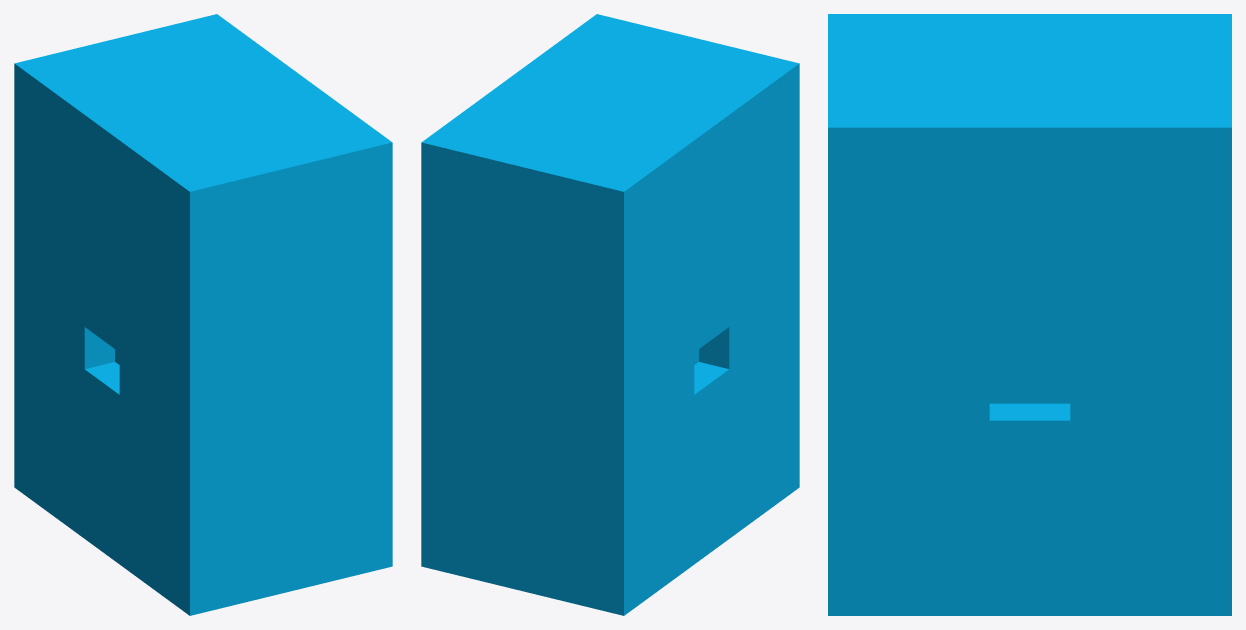
Rendered from parallel_X_yuzey_cep.gltf.
3 renders of one model, left to right at view 1: azimuth 30°, elevation 25°; view 2: azimuth 150°, elevation 25°; view 3: azimuth 270°, elevation 25°, orthographic. The views are drawn at different scales.
Visible parts, largest first — view 1: Gövde; view 2: Gövde; view 3: Gövde.
Part boxes in pixels (x1,y1,x2,y2): Gövde: (14, 14, 392, 615); Gövde: (421, 14, 799, 615); Gövde: (828, 14, 1231, 615).
Size of the model in its own units: 0.01 by 0.02 by 0.015.
